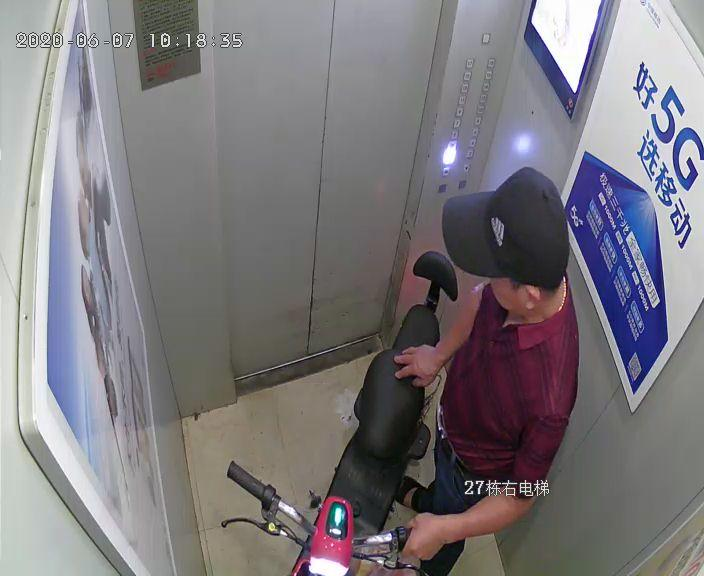Electric-bicycle: (292, 257, 455, 575)
